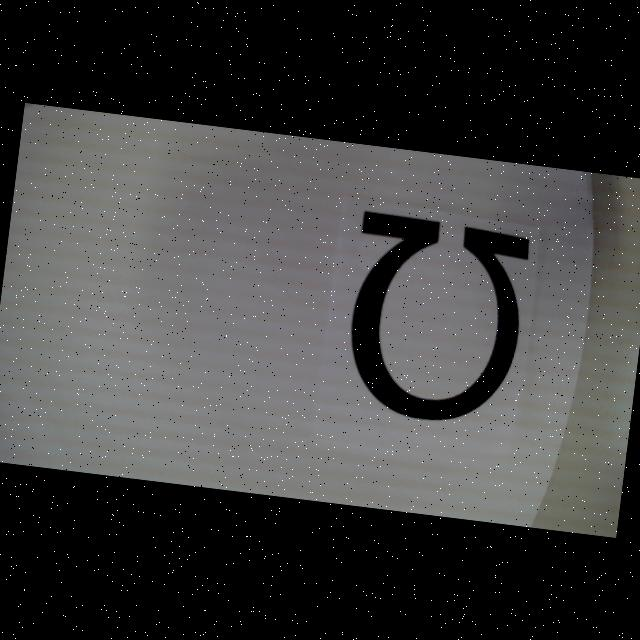OMEGA: (338, 208, 532, 430)
